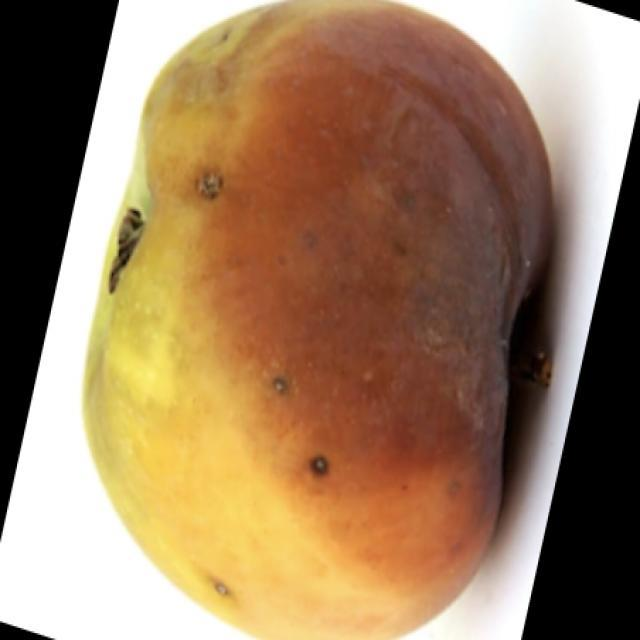Rotten: (81, 3, 566, 637)
